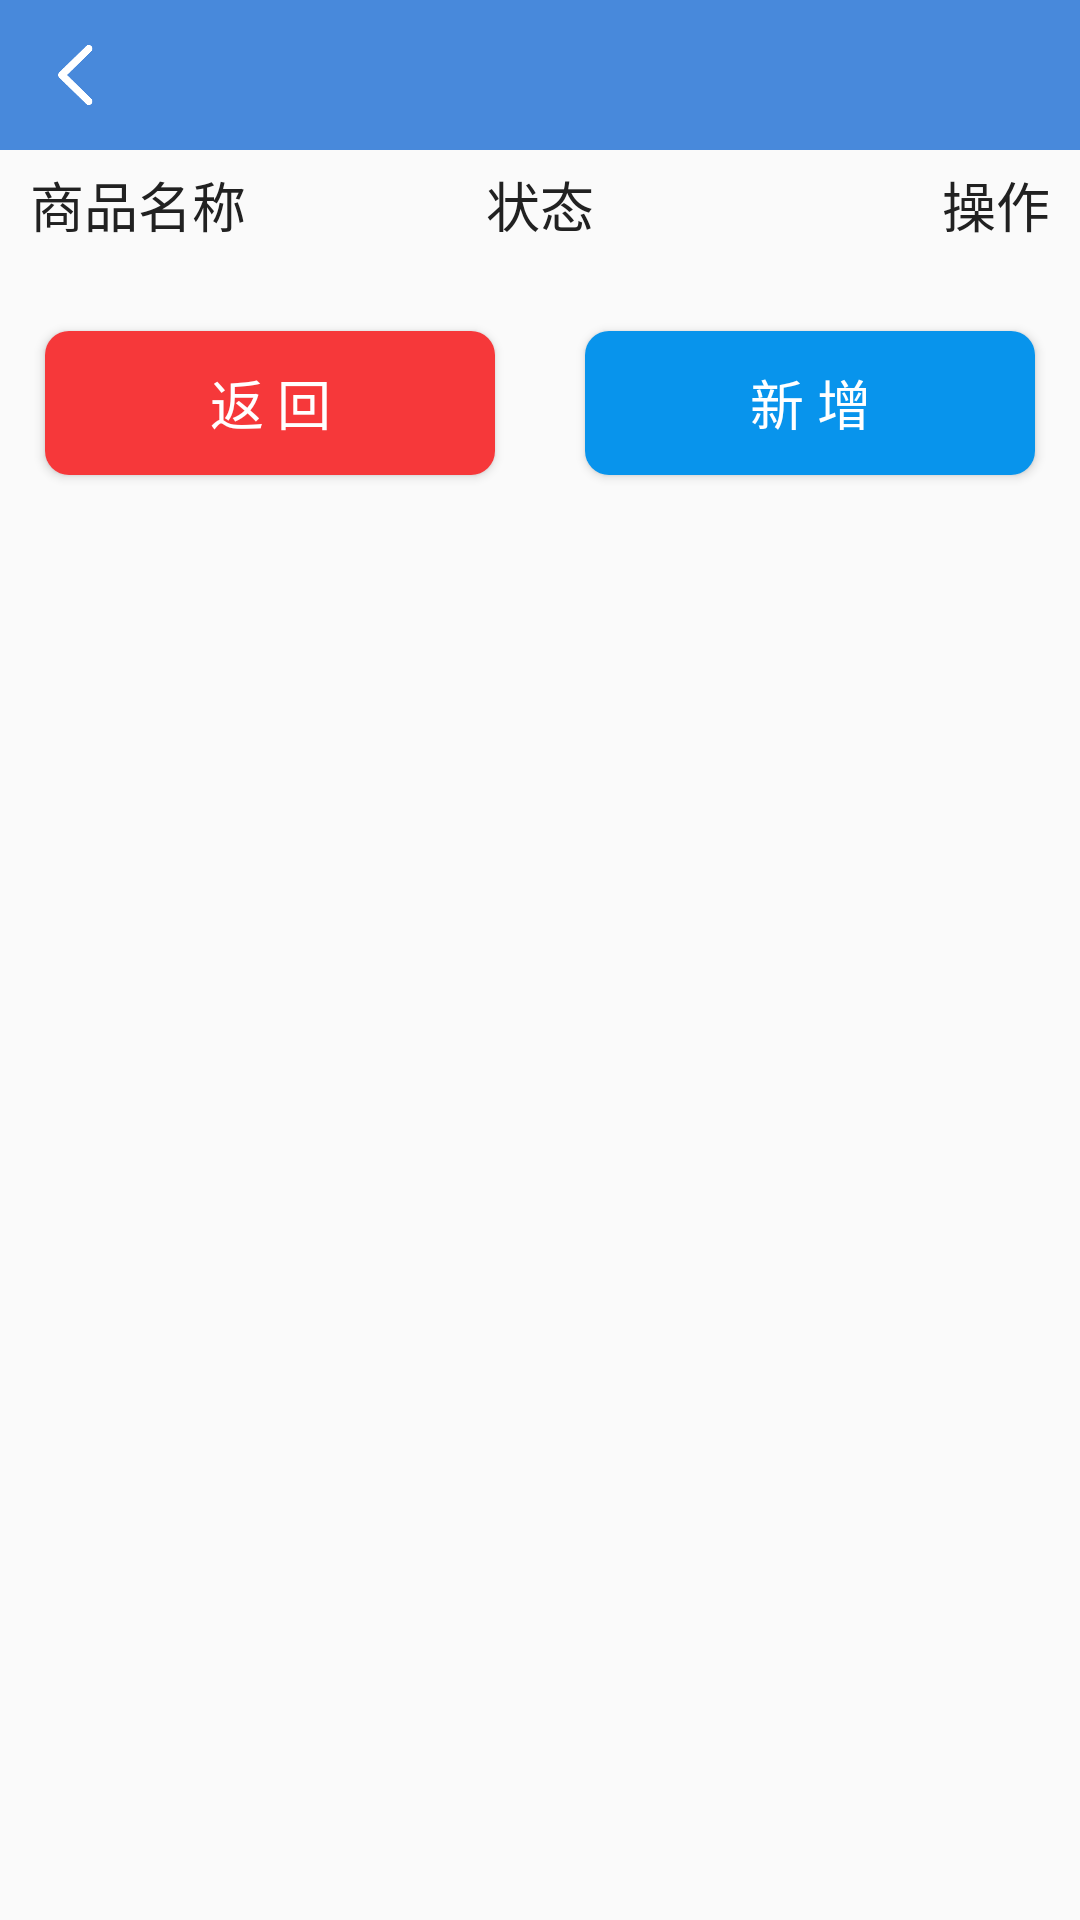

Where to tap for icons on this 1080×1920 app screen, as (x,y):
back: (75,75)
